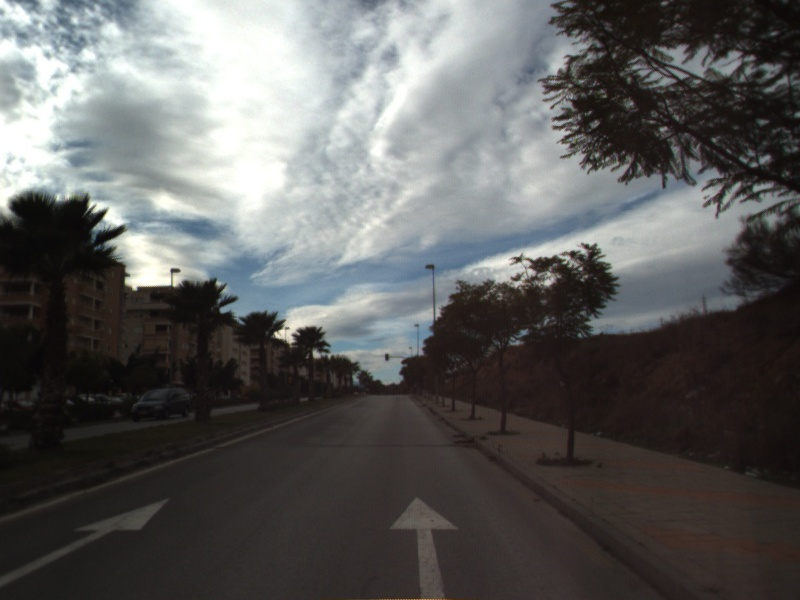STRAIGHT: (1, 495, 173, 589), (387, 494, 462, 600)
